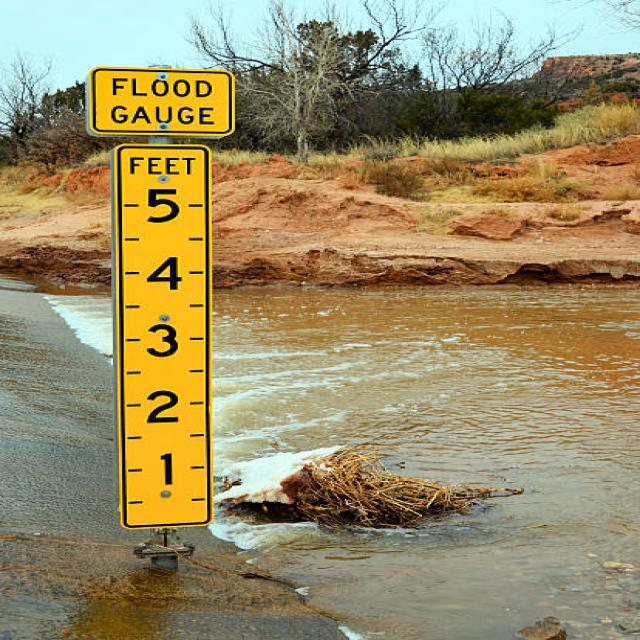ruler: (103, 135, 224, 536)
value: (138, 249, 190, 294), (138, 383, 190, 428), (136, 319, 188, 360), (138, 184, 188, 225), (150, 448, 184, 491)
